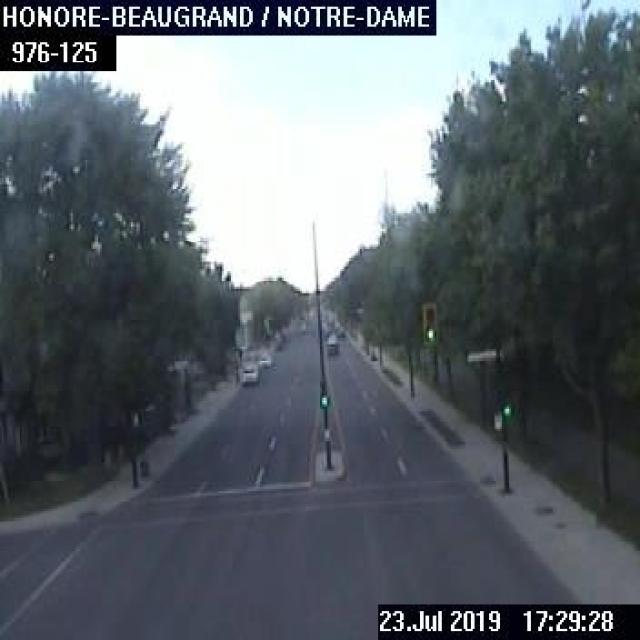vehicle: (239, 360, 258, 385), (325, 332, 338, 354), (257, 352, 271, 366)
